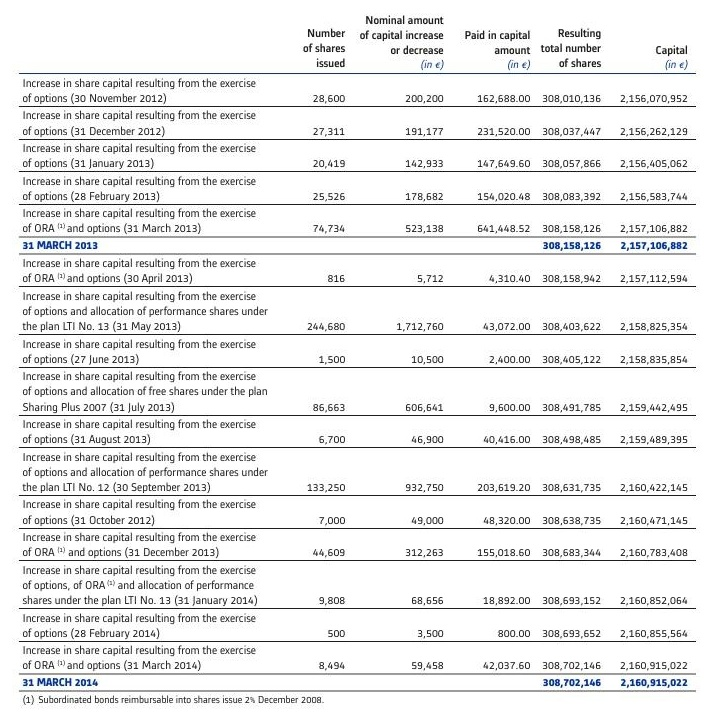table: (0, 0, 723, 718)
